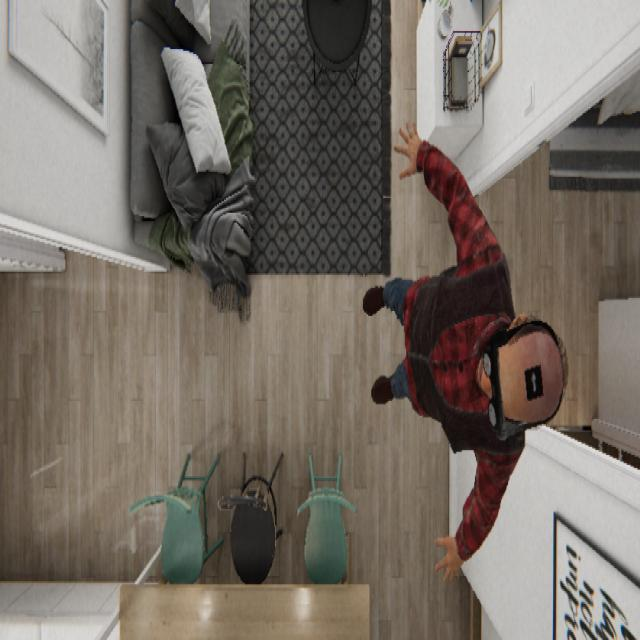Human: (361, 120, 569, 584)
UnityLogo: (523, 360, 544, 401)
